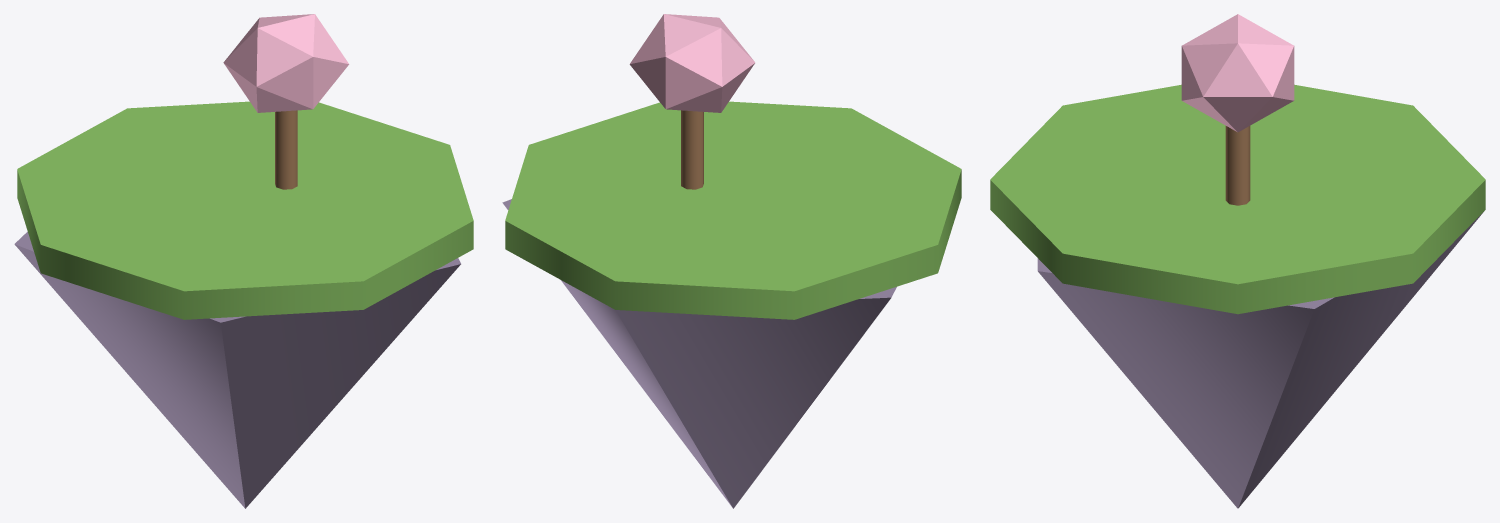
Rendered from floating-island.glb.
3 views of the same model, side by side, from view 1: azimuth 30°, elevation 25°; view 2: azimuth 150°, elevation 25°; view 3: azimuth 270°, elevation 25° (orthographic). The views are drawn at different scales.
Parts seen in each view (by area): view 1: bridges floating-island; view 2: bridges floating-island; view 3: bridges floating-island.
Boxes of the visible parts, left/top/right/bottom form: bridges floating-island: left=14, top=14, right=473, bottom=508; bridges floating-island: left=502, top=14, right=961, bottom=508; bridges floating-island: left=990, top=14, right=1485, bottom=508.
Bounding box in the file's own units: 6 × 6.7 × 6.
